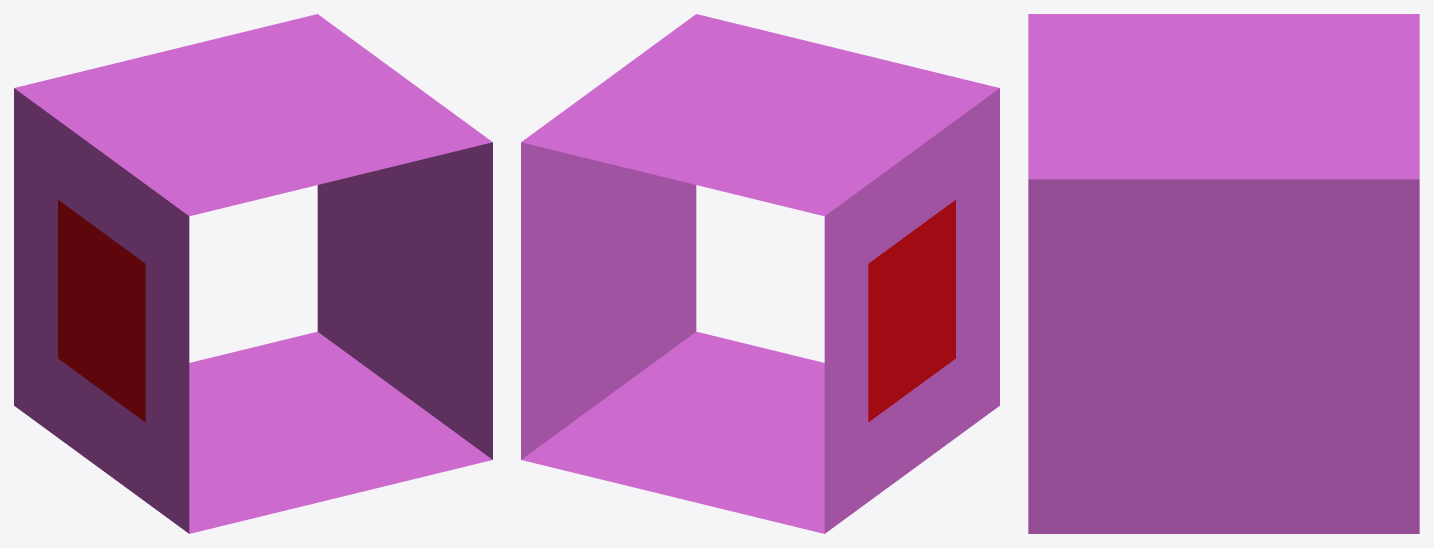
File: window.glb
The picture shows the model from 3 angles, left to right: view 1: azimuth 30°, elevation 25°; view 2: azimuth 150°, elevation 25°; view 3: azimuth 270°, elevation 25°; orthographic projection. The views are drawn at different scales.
Visible parts, largest first — view 1: window; view 2: window; view 3: window.
Part boxes in pixels (bbox=[...]): window: bbox=[14, 14, 492, 533]; window: bbox=[521, 14, 999, 533]; window: bbox=[1028, 14, 1419, 533].
Size of the model in its own units: 1 by 1 by 1.
